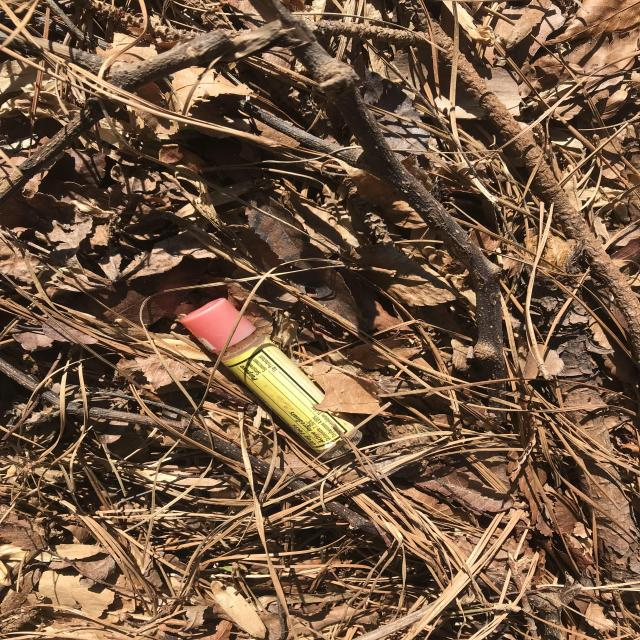litter: (180, 297, 361, 456)
